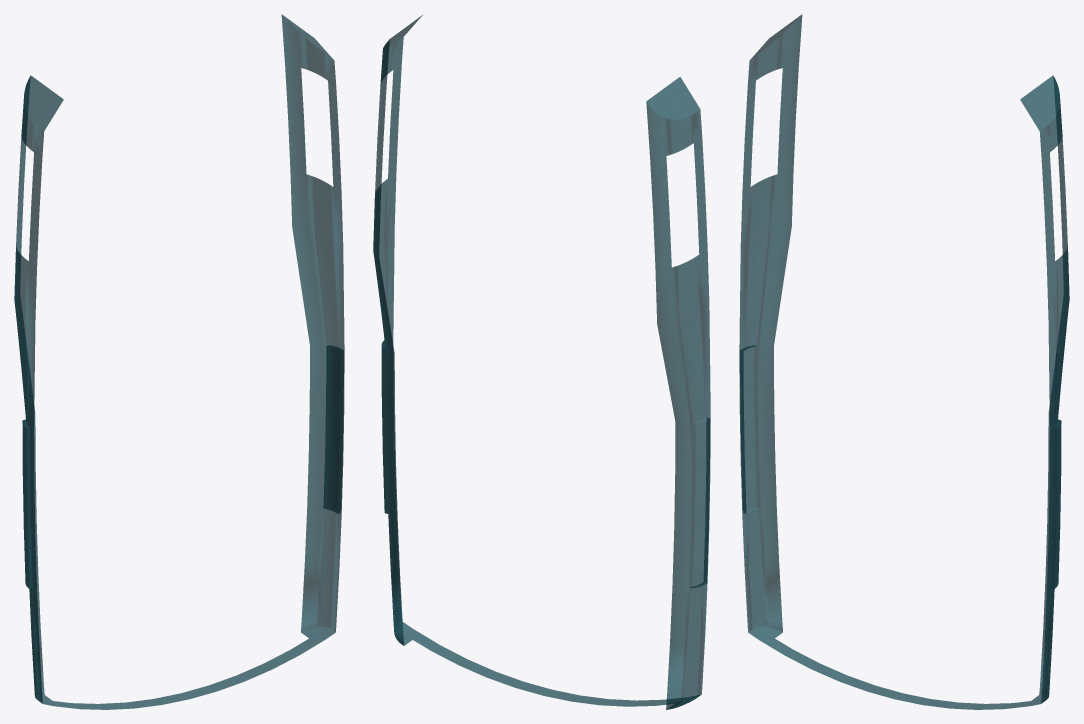
File: original-34.obj
3 renders of one model, left to right at view 1: azimuth 30°, elevation 25°; view 2: azimuth 150°, elevation 25°; view 3: azimuth 330°, elevation 25°, orthographic. The views are drawn at different scales.
Visible parts, largest first — view 1: Group4/mesh3/mesh3-geometry/material_0/component_0#mesh3-geometr; view 2: Group4/mesh3/mesh3-geometry/material_0/component_0#mesh3-geometr; view 3: Group4/mesh3/mesh3-geometry/material_0/component_0#mesh3-geometr.
Boxes of the visible parts, x1,y1,x2,y2 form: Group4/mesh3/mesh3-geometry/material_0/component_0#mesh3-geometr: [14, 14, 344, 709]; Group4/mesh3/mesh3-geometry/material_0/component_0#mesh3-geometr: [373, 15, 710, 709]; Group4/mesh3/mesh3-geometry/material_0/component_0#mesh3-geometr: [739, 14, 1069, 709].
Size of the model in its own units: 0.9831 by 1.86 by 0.1781.
